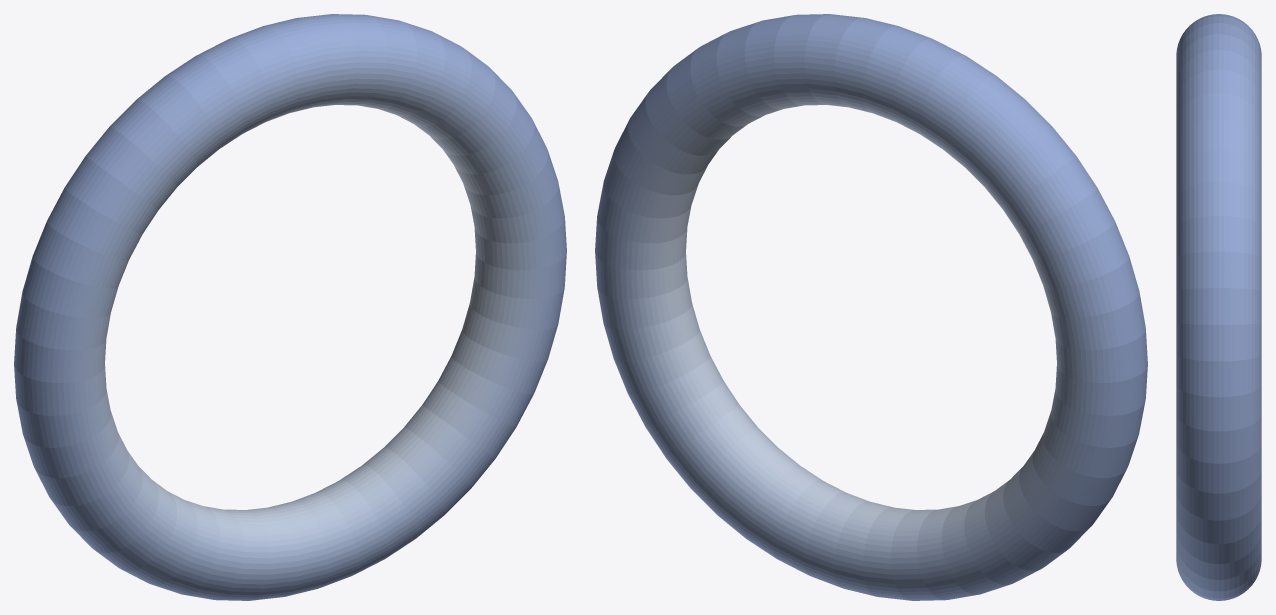
3 views of the same model, side by side, from view 1: azimuth 30°, elevation 25°; view 2: azimuth 150°, elevation 25°; view 3: azimuth 270°, elevation 25° (orthographic). The views are drawn at different scales.
Visible parts, largest first — view 1: world; view 2: world; view 3: world.
Part boxes in pixels (left/top/right/bottom): world: left=14, top=14, right=566, bottom=600; world: left=595, top=14, right=1147, bottom=600; world: left=1176, top=14, right=1261, bottom=600.
Size of the model in its own units: 26.53 by 26.48 by 3.86.
